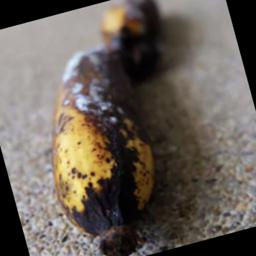Banana Rotten: (36, 34, 169, 255)
